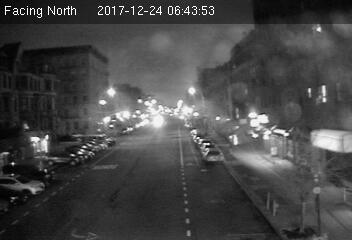car: (203, 147, 221, 161)
